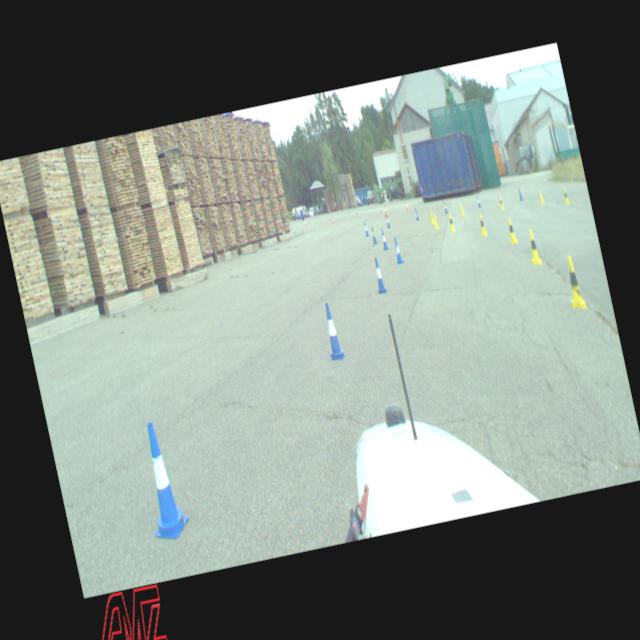blue_cone: (132, 418, 192, 542), (318, 301, 346, 361), (372, 256, 388, 294), (392, 236, 404, 264), (379, 229, 388, 250), (362, 220, 370, 237), (370, 226, 377, 243), (475, 194, 481, 207), (413, 207, 419, 220), (442, 200, 448, 212), (517, 188, 523, 200), (385, 215, 390, 228)
orange_cone: (383, 205, 388, 217), (378, 204, 382, 213), (404, 201, 408, 210), (354, 207, 358, 215), (384, 200, 388, 207), (304, 218, 307, 226), (332, 215, 335, 222), (370, 202, 373, 208)
yellow_cone: (561, 254, 586, 310), (526, 228, 542, 264), (506, 216, 518, 243), (477, 212, 487, 236), (447, 212, 455, 230), (562, 186, 569, 204), (537, 189, 544, 204), (432, 212, 438, 228), (428, 208, 434, 224), (458, 202, 464, 216), (498, 196, 504, 209)
